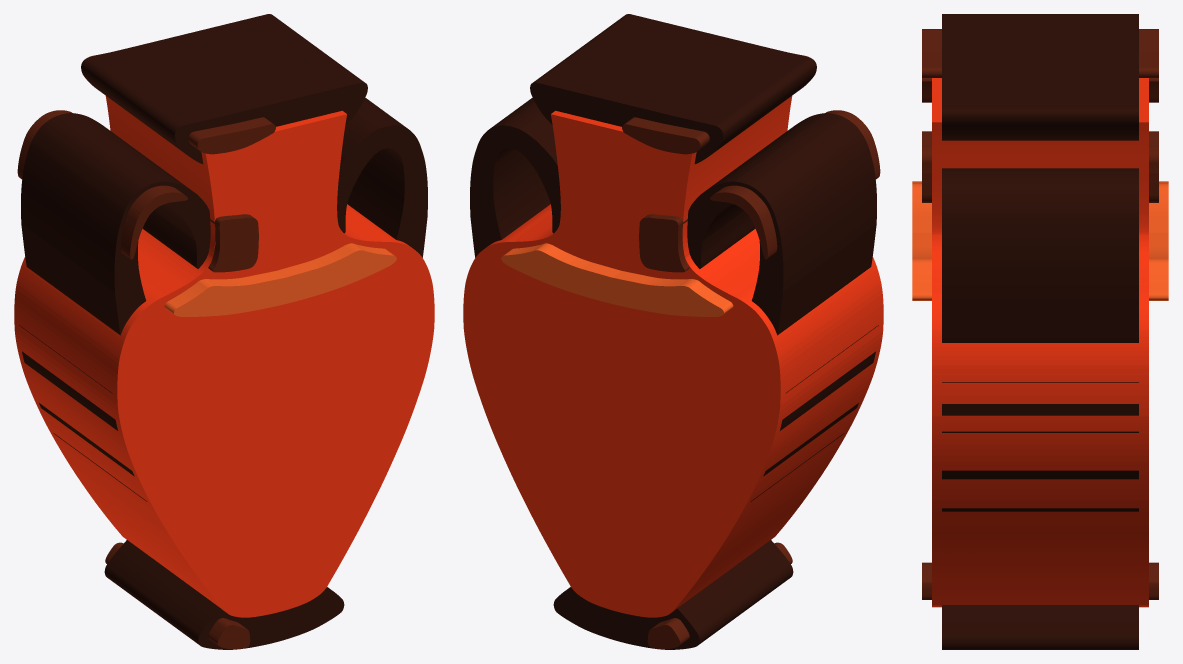
The picture shows the model from 3 angles, left to right: view 1: azimuth 30°, elevation 25°; view 2: azimuth 150°, elevation 25°; view 3: azimuth 270°, elevation 25°; orthographic projection. The views are drawn at different scales.
Parts seen in each view (by area): view 1: U+1F3FA_layer01_obj00, U+1F3FA_layer00_obj10, U+1F3FA_layer00_obj08, U+1F3FA_layer00_obj11, U+1F3FA_layer00_obj06, U+1F3FA_layer03_obj00, U+1F3FA_layer02_obj00, U+1F3FA_layer02_obj01, U+1F3FA_layer02_obj02, U+1F3FA_layer02_obj03, U+1F3FA_layer00_obj04; view 2: U+1F3FA_layer01_obj00, U+1F3FA_layer00_obj10, U+1F3FA_layer00_obj08, U+1F3FA_layer00_obj11, U+1F3FA_layer00_obj06, U+1F3FA_layer03_obj00, U+1F3FA_layer02_obj00, U+1F3FA_layer02_obj01, U+1F3FA_layer02_obj02, U+1F3FA_layer02_obj03, U+1F3FA_layer00_obj04; view 3: U+1F3FA_layer01_obj00, U+1F3FA_layer00_obj11, U+1F3FA_layer00_obj08, U+1F3FA_layer00_obj06, U+1F3FA_layer03_obj00, U+1F3FA_layer00_obj01, U+1F3FA_layer00_obj00, U+1F3FA_layer02_obj02, U+1F3FA_layer02_obj00, U+1F3FA_layer00_obj09, U+1F3FA_layer02_obj03, U+1F3FA_layer02_obj01.
Boxes of the visible parts, x1,y1,x2,y2 form: U+1F3FA_layer01_obj00: (14,96,434,617); U+1F3FA_layer00_obj10: (21,113,210,335); U+1F3FA_layer00_obj08: (81,14,367,163); U+1F3FA_layer00_obj11: (337,98,427,257); U+1F3FA_layer00_obj06: (104,540,344,649); U+1F3FA_layer03_obj00: (164,243,396,316); U+1F3FA_layer02_obj00: (208,214,258,272); U+1F3FA_layer02_obj01: (17,110,187,259); U+1F3FA_layer02_obj02: (89,53,275,154); U+1F3FA_layer02_obj03: (105,542,250,649); U+1F3FA_layer00_obj04: (19,325,117,430); U+1F3FA_layer01_obj00: (463,96,883,617); U+1F3FA_layer00_obj10: (687,113,876,335); U+1F3FA_layer00_obj08: (530,14,816,163); U+1F3FA_layer00_obj11: (470,98,560,257); U+1F3FA_layer00_obj06: (553,540,793,649); U+1F3FA_layer03_obj00: (501,243,733,316); U+1F3FA_layer02_obj00: (639,214,689,272); U+1F3FA_layer02_obj01: (710,110,880,259); U+1F3FA_layer02_obj02: (622,53,808,154); U+1F3FA_layer02_obj03: (647,542,792,649); U+1F3FA_layer00_obj04: (780,325,878,430); U+1F3FA_layer01_obj00: (932,78,1148,607); U+1F3FA_layer00_obj11: (942,168,1138,342); U+1F3FA_layer00_obj08: (942,14,1138,140); U+1F3FA_layer00_obj06: (942,605,1138,649); U+1F3FA_layer03_obj00: (912,181,1168,300); U+1F3FA_layer00_obj01: (942,404,1138,432); U+1F3FA_layer00_obj00: (942,470,1138,479); U+1F3FA_layer02_obj02: (922,29,1158,77); U+1F3FA_layer02_obj00: (922,131,1158,202); U+1F3FA_layer00_obj09: (942,508,1138,511); U+1F3FA_layer02_obj03: (922,562,1158,599); U+1F3FA_layer02_obj01: (922,78,1158,102).
Size of the model in its own units: 0.1956 by 0.3177 by 0.13.
